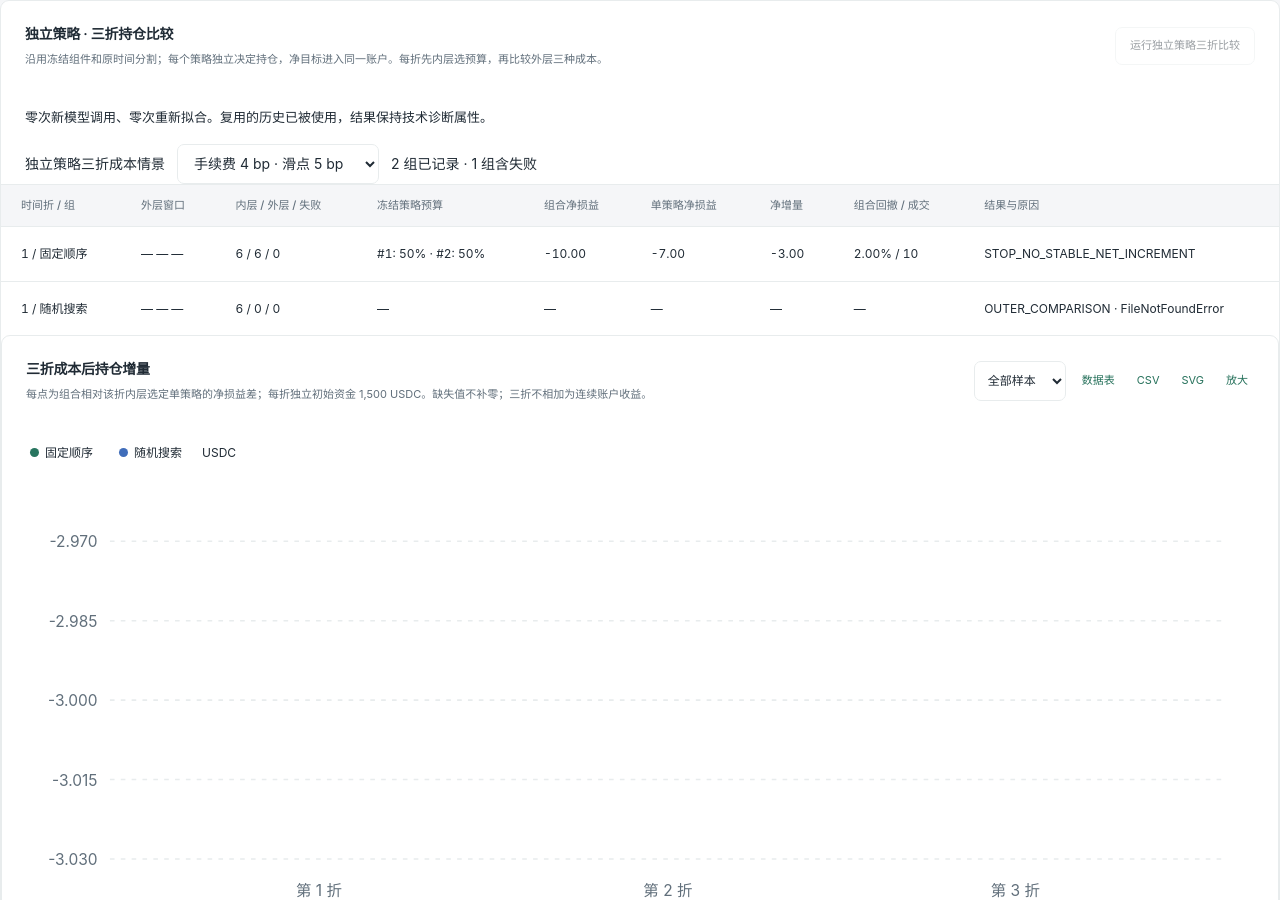
Test: shows paired cost comparisons and keeps missing groups unknown
The width and height of the screenshot is (1280, 900).
Expected: the element named "独立策略三折比较" shows "-10.00", [544, 246, 586, 261]
Select "手续费 8 bp · 滑点 5 bp" in the dropdown labelled "独立策略三折成本情景" at (278, 164), box [177, 144, 379, 184]
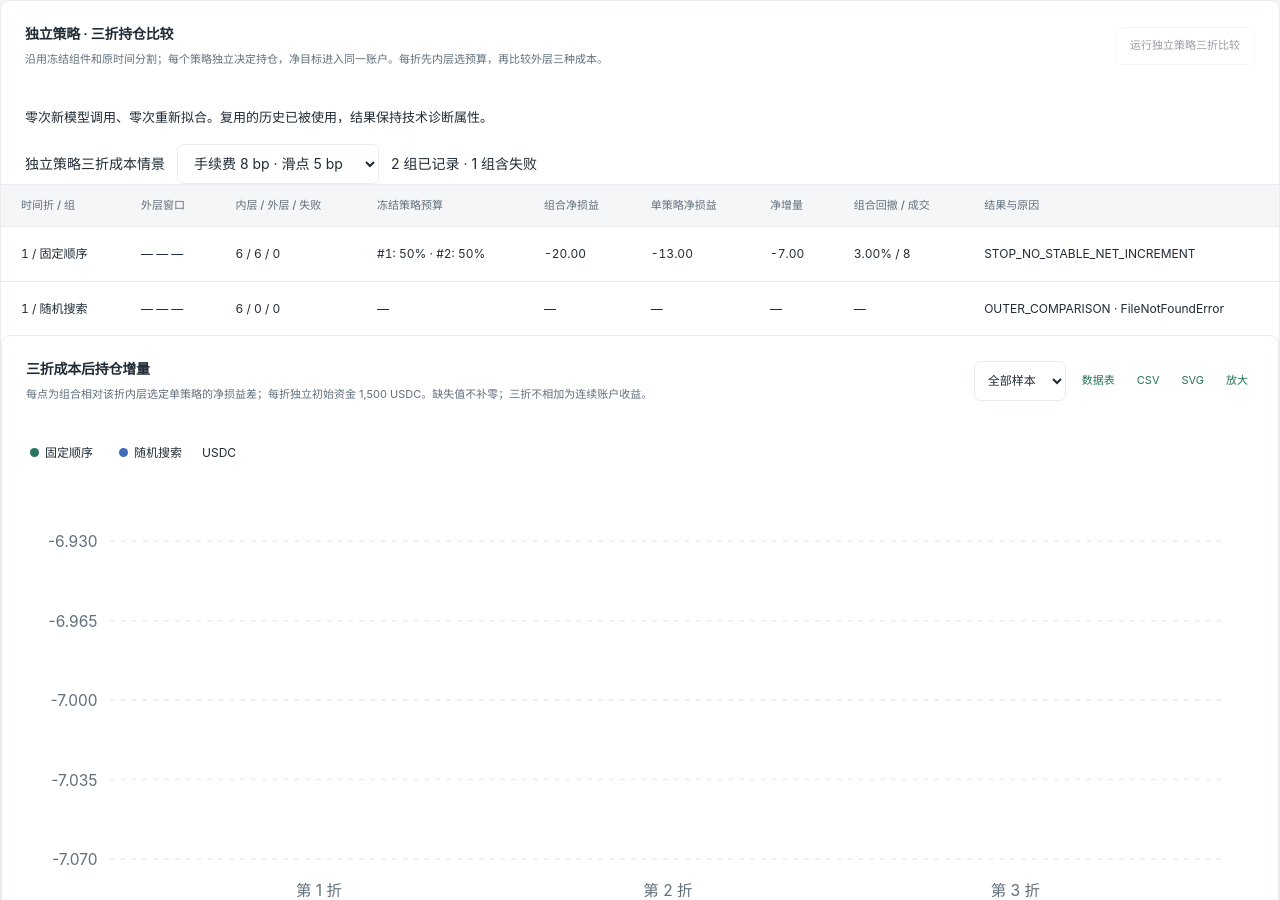
Expected: the element named "独立策略三折比较" shows "FileNotFoundError", [984, 301, 1224, 316]
Expected: the element named "独立策略三折比较" shows "-20.00", [544, 246, 586, 261]
